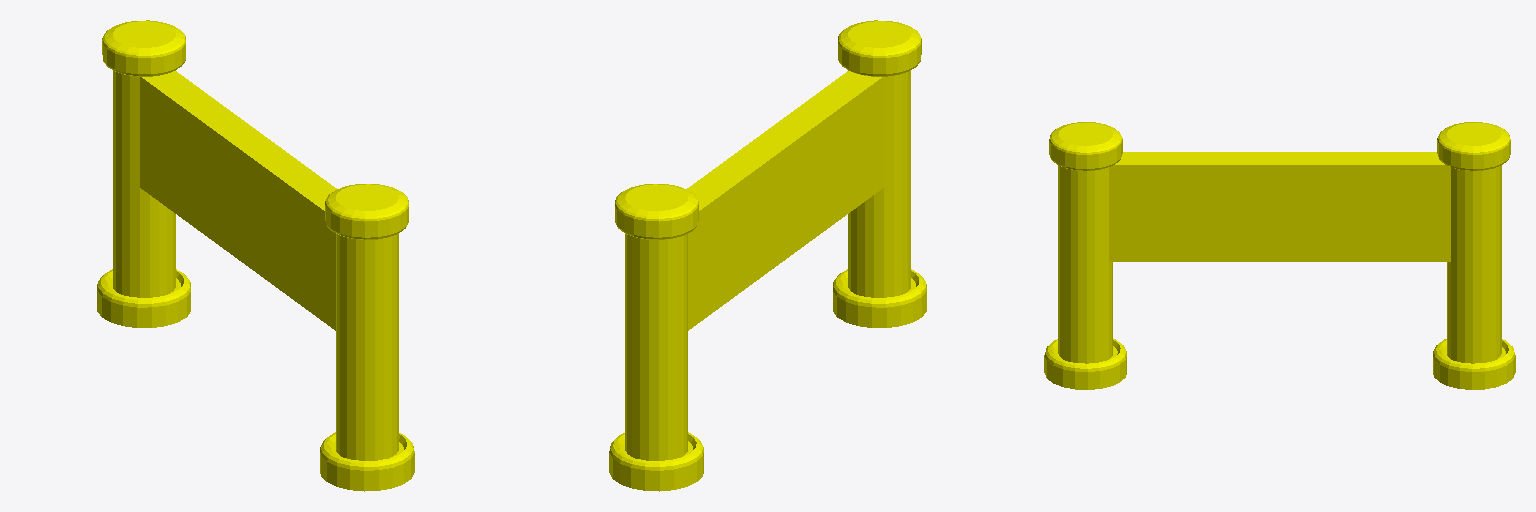
URDF robot description (bar):
<?xml version="1.0"?>
<robot name="bar">
  <link name="base">
   <contact>
      <lateral_friction value="1.0"/>
      <rolling_friction value="0.0"/>
      <contact_cfm value="0.0"/>
      <contact_erp value="1.0"/>
    </contact>
    <inertial>
      <origin rpy="0 0 0" xyz="0 0 0"/>
       <mass value="1.0"/>
       <inertia ixx="1" ixy="0" ixz="0" iyy="1" iyz="0" izz="1"/>
    </inertial>
    <visual>
      <geometry>
        <mesh filename="OBJ/bar.obj" scale="1 1 1"/>
      </geometry>
      <origin rpy="0 0 0" xyz="0 0 0" />
      <material name="yellow"/>
    </visual>
    <collision>
      <origin rpy="0 0 0" xyz="0 0 0"/>
      <geometry>
         <mesh filename="OBJ/bar.obj" scale="1 1 1"/>
      </geometry>
    </collision>
  </link>

<material name="red"><color rgba="0.99 0 0 1"/></material>
<material name="orange"><color rgba="1 0.5 0 1"/></material>
<material name="yellow"><color rgba="0.95 0.95 0 1"/></material>
<material name="green"><color rgba="0 0.99 0 1"/></material>
<material name="skyblue"><color rgba="0.53 0.81 0.92 1"/></material>
<material name="blue"><color rgba="0 0 0.99 1"/></material>
<material name="purple"><color rgba="0.95 0 0.95 1"/></material>



</robot>

--- What the picture shows (computed from the rendered views, not written in the file) ---
3 views of the same robot in one strip: view 1: azimuth 30°, elevation 25°; view 2: azimuth 150°, elevation 25°; view 3: azimuth 270°, elevation 25° (orthographic).
Robot: bar — 1 links, 0 joints (none); root link base; default pose: every joint at zero.
Links seen in each view (by area): view 1: base; view 2: base; view 3: base.
Boxes of the visible links, x1,y1,x2,y2 form: base: [97, 20, 414, 491]; base: [609, 20, 926, 491]; base: [1044, 122, 1515, 389].
Bounding box of the posed robot: 0.0247 × 0.1403 × 0.0784 m (x, y, z).
1 mesh visuals loaded from 1 distinct referenced files (1 OBJ).